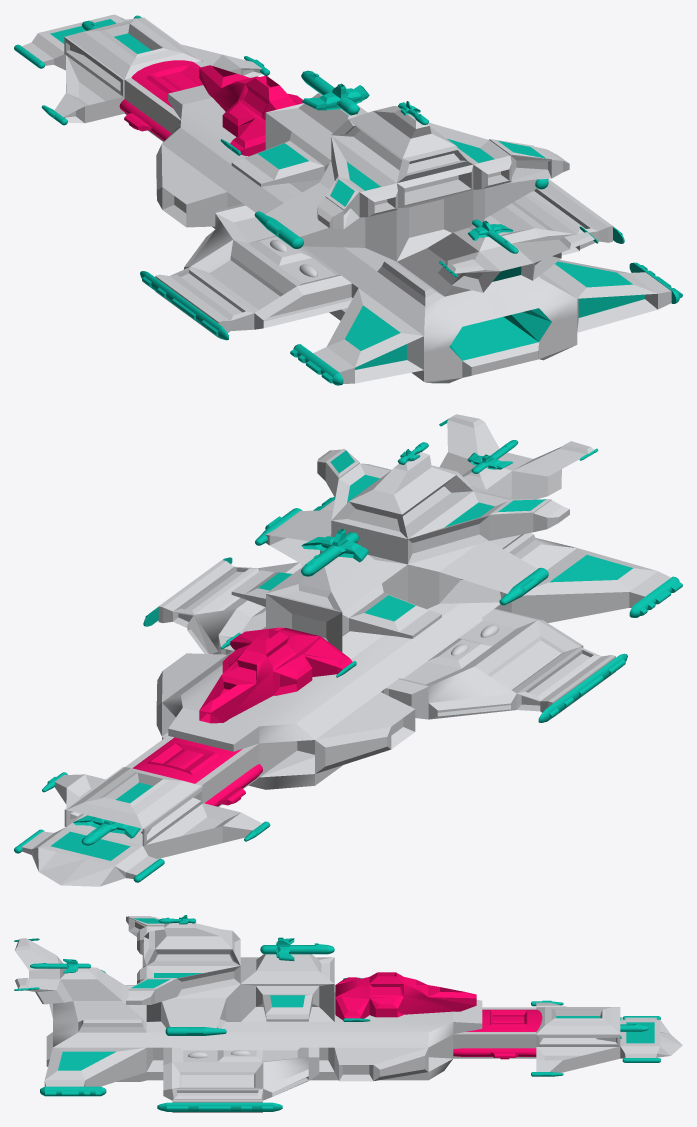
File: webpageShip.gltf
The picture shows the model from 3 angles, top to bottom: view 1: azimuth 30°, elevation 25°; view 2: azimuth 150°, elevation 25°; view 3: azimuth 270°, elevation 25°; orthographic projection. The views are drawn at different scales.
Visible parts, largest first — view 1: Box001, Box005_black mat for body_0, Box002_body color 2_0, Box004_black mat for body_0.001, Cylinder005, ChamferCyl001_07 - Default_0.001, Cylinder010, Cylinder002_07 - Default_0.001, Cylinder006, ChamferCyl011_07 - Default_0.001, ChamferCyl003; view 2: Box001, Box005_black mat for body_0, Box002_body color 2_0, Box004_black mat for body_0.001, Cylinder005, ChamferCyl001_07 - Default_0.001, Cylinder010, ChamferCyl012, Cylinder006, Cylinder002_07 - Default_0.001, ChamferCyl011_07 - Default_0.001; view 3: Box001, Box004_black mat for body_0.001, Box002_body color 2_0, Cylinder005, Cylinder003, ChamferCyl001_07 - Default_0.001, Cylinder007, Cylinder004, ChamferCyl004, ChamferCyl011_07 - Default_0.001.
Part boxes in pixels (x1,y1,x2,y2): Box001: (22,14,671,383); Box005_black mat for body_0: (155,204,358,337); Box002_body color 2_0: (199,65,303,156); Box004_black mat for body_0.001: (484,179,612,255); Cylinder005: (131,60,202,107); ChamferCyl001_07 - Default_0.001: (301,70,369,115); Cylinder010: (140,271,228,340); Cylinder002_07 - Default_0.001: (290,344,343,385); Cylinder006: (119,99,171,140); ChamferCyl011_07 - Default_0.001: (467,219,518,253); ChamferCyl003: (254,211,303,248); Box001: (21,414,670,886); Box005_black mat for body_0: (381,608,615,719); Box002_body color 2_0: (199,627,352,723); Box004_black mat for body_0.001: (158,560,303,654); Cylinder005: (133,737,242,783); ChamferCyl001_07 - Default_0.001: (301,529,369,576); Cylinder010: (538,653,627,722); ChamferCyl012: (73,815,140,845); Cylinder006: (204,764,262,806); Cylinder002_07 - Default_0.001: (629,576,682,617); ChamferCyl011_07 - Default_0.001: (467,440,518,473); Box001: (14,916,682,1086); Box004_black mat for body_0.001: (163,1047,319,1112); Box002_body color 2_0: (335,972,476,1019); Cylinder005: (466,1009,542,1031); Cylinder003: (157,1102,282,1111); ChamferCyl001_07 - Default_0.001: (260,937,334,960); Cylinder007: (453,1048,536,1059); Cylinder004: (40,1086,106,1096); ChamferCyl004: (165,1027,226,1035); ChamferCyl011_07 - Default_0.001: (30,959,90,973).
Size of the model in its own units: 2.7 by 1.31 by 5.38.
